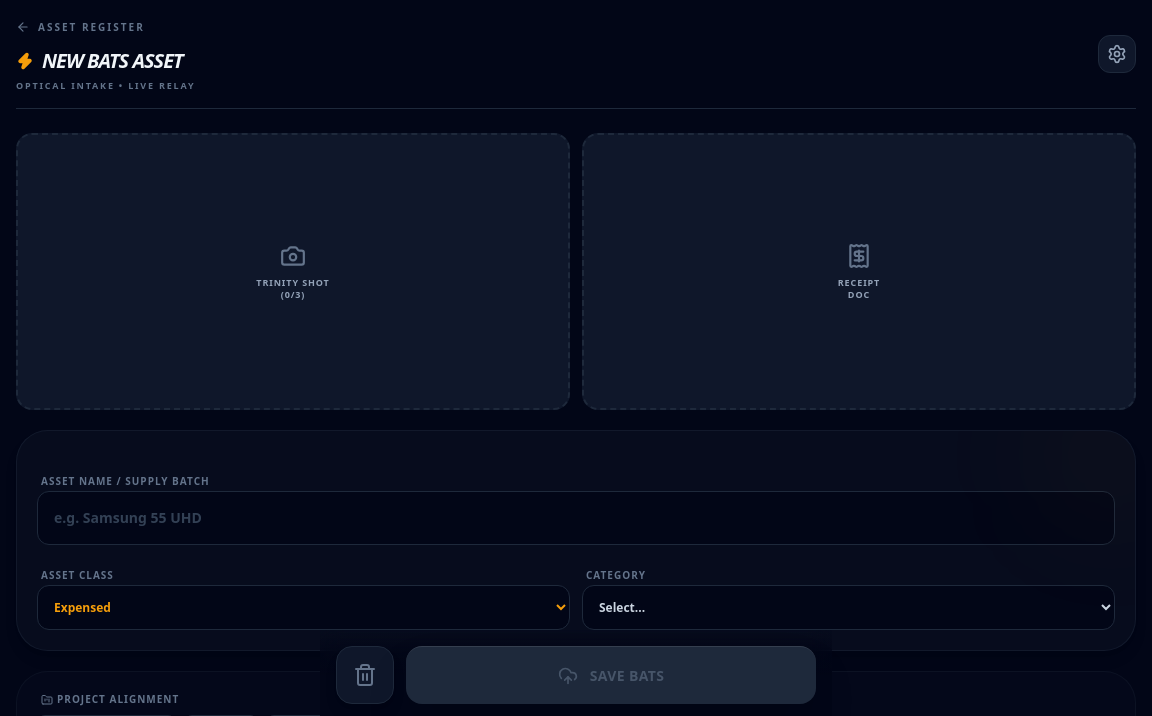
Test: BATS intake UI › shows a visible error when live save fails
Type "Camera Body" into the field with placeholder "e.g. Samsung 55 UHD".
click(576, 518); type("Camera Body")  # box [37, 491, 1115, 545]
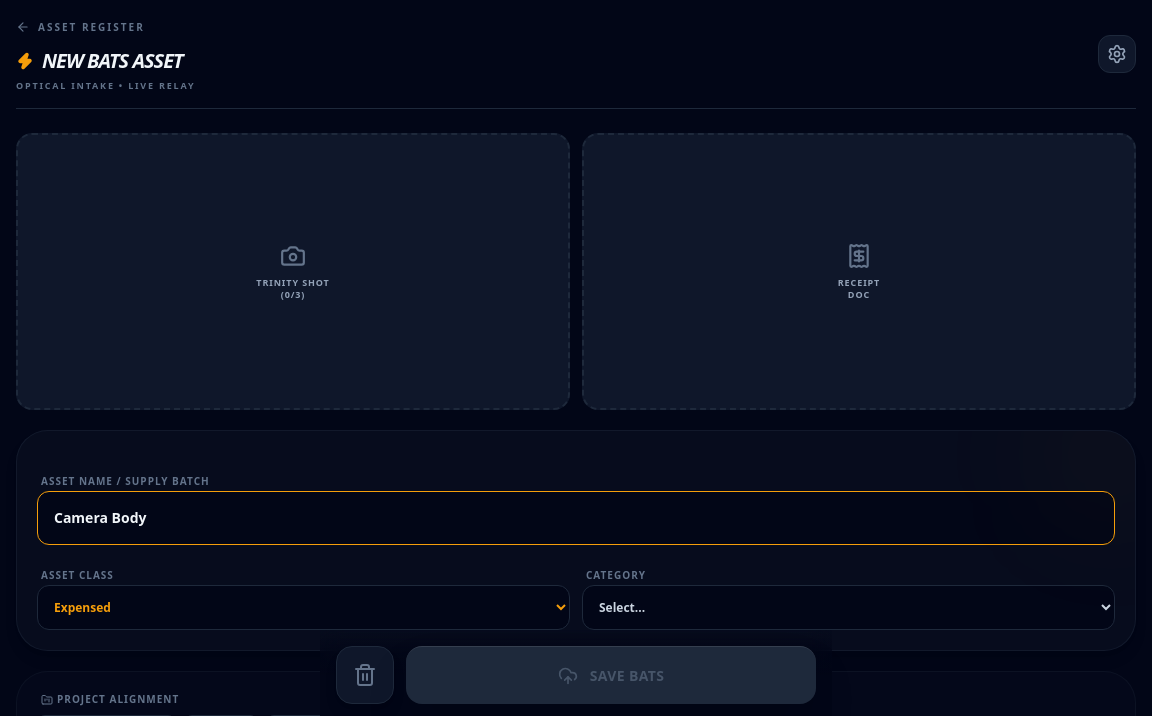
Select "Visuals - Displays" in the dropdown below "Category" at (848, 608), box [582, 585, 1115, 630]
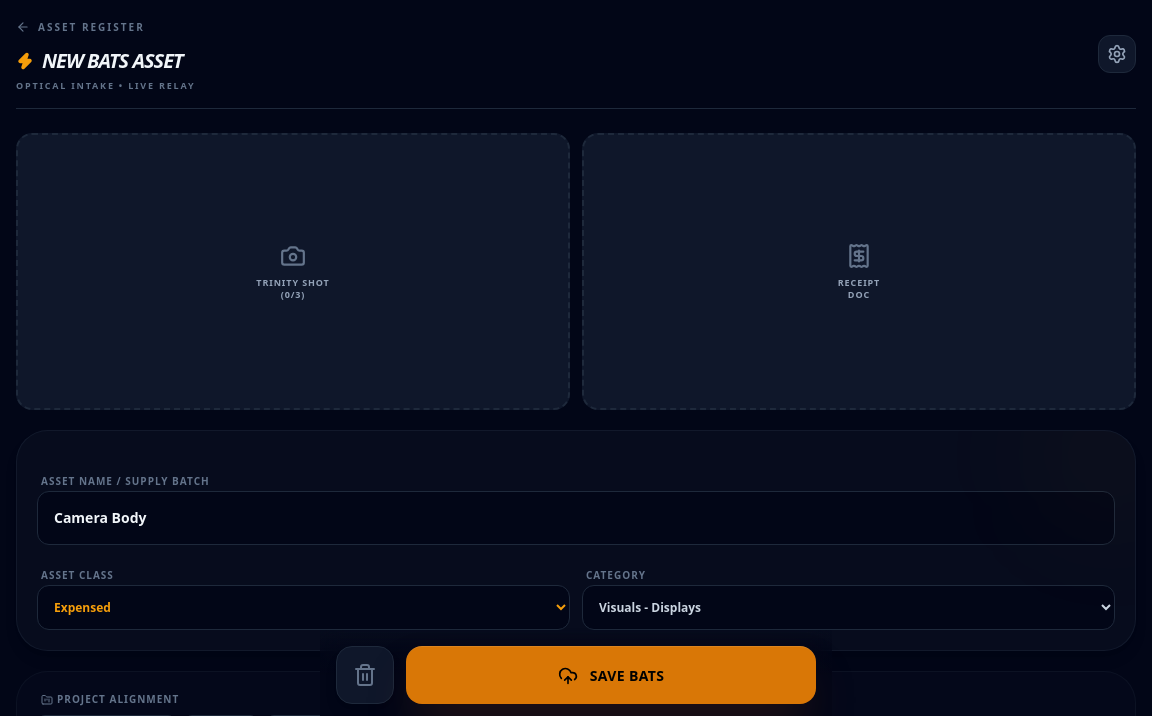
Click the button "SAVE BATS".
click(611, 675)  # box [406, 646, 816, 704]
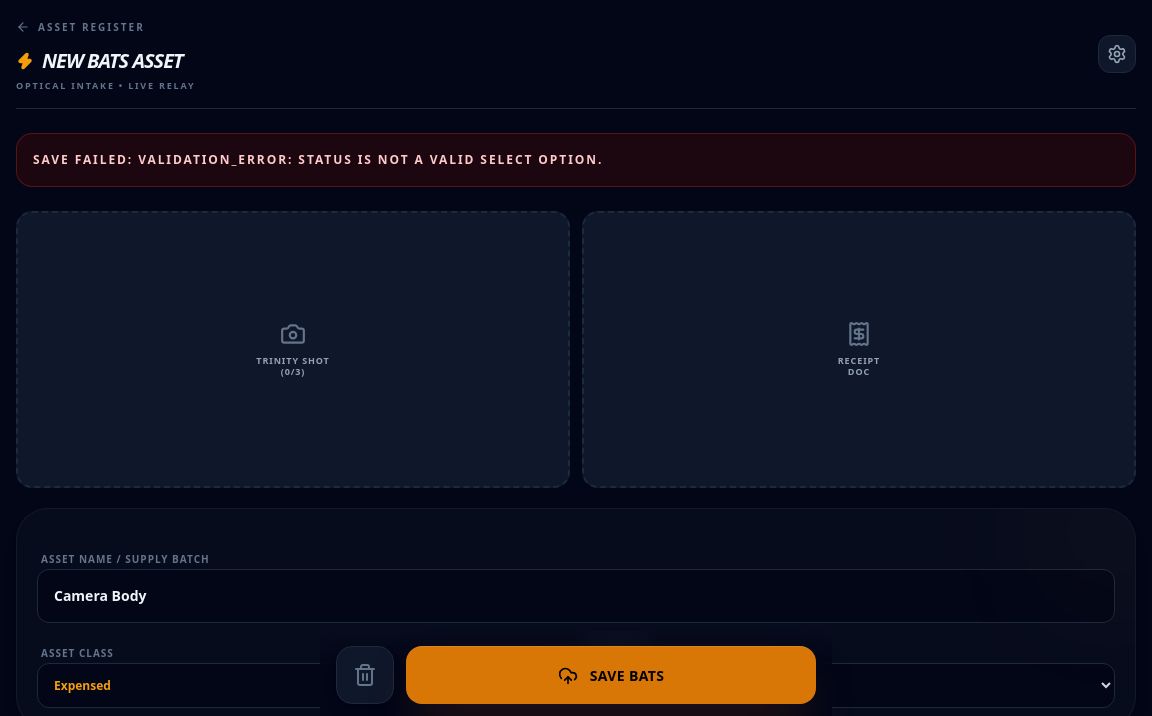
expect the text "Save failed: validation_error: Status is not a valid select option" is shown: met, box [16, 133, 1136, 186]
